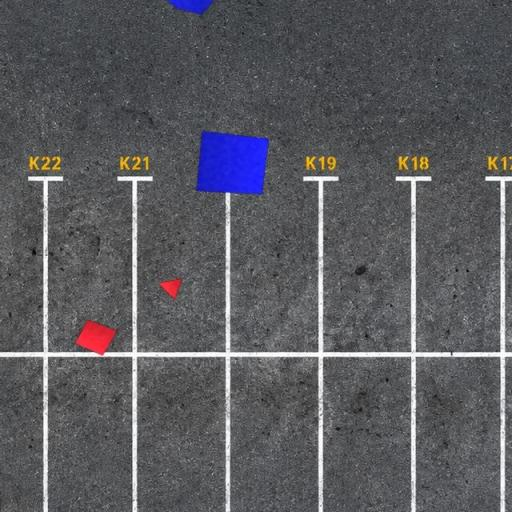BLUE_SQUARE: (196, 130, 270, 196)
RED_SQUARE: (74, 318, 118, 357)
